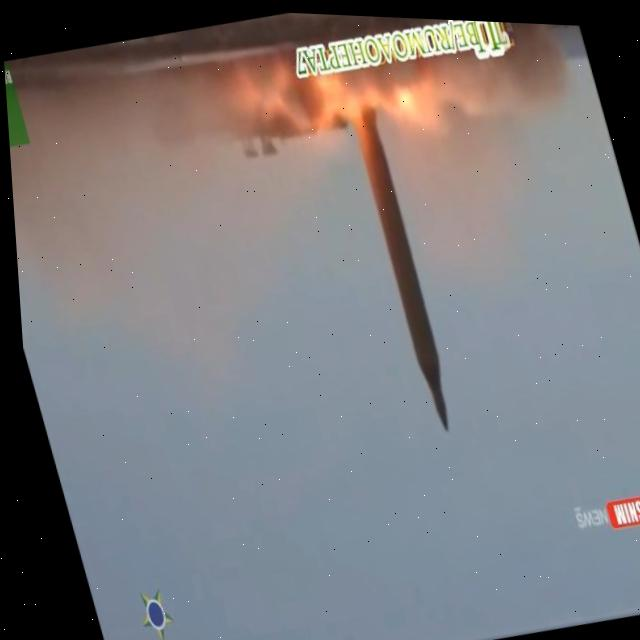missile: (342, 94, 462, 432)
